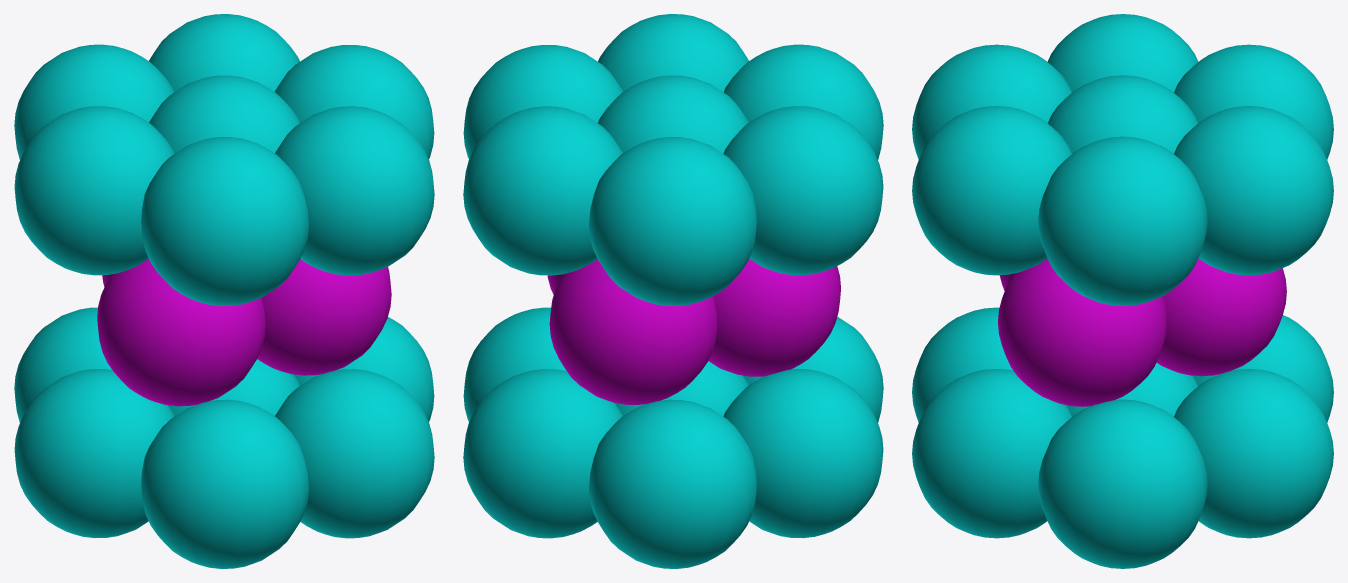
The model's file is hcpgordo.glb.
The picture shows the model from 3 angles, left to right: view 1: azimuth 30°, elevation 25°; view 2: azimuth 150°, elevation 25°; view 3: azimuth 270°, elevation 25°; orthographic projection.
Parts seen in each view (by area): view 1: mitad6; view 2: mitad6; view 3: mitad6.
Part boxes in pixels (box(x1,y1,x2,y2)): mitad6: box(14, 14, 434, 568); mitad6: box(463, 14, 883, 568); mitad6: box(912, 14, 1333, 568).
Size of the model in its own units: 3.17 by 3.17 by 2.91.
